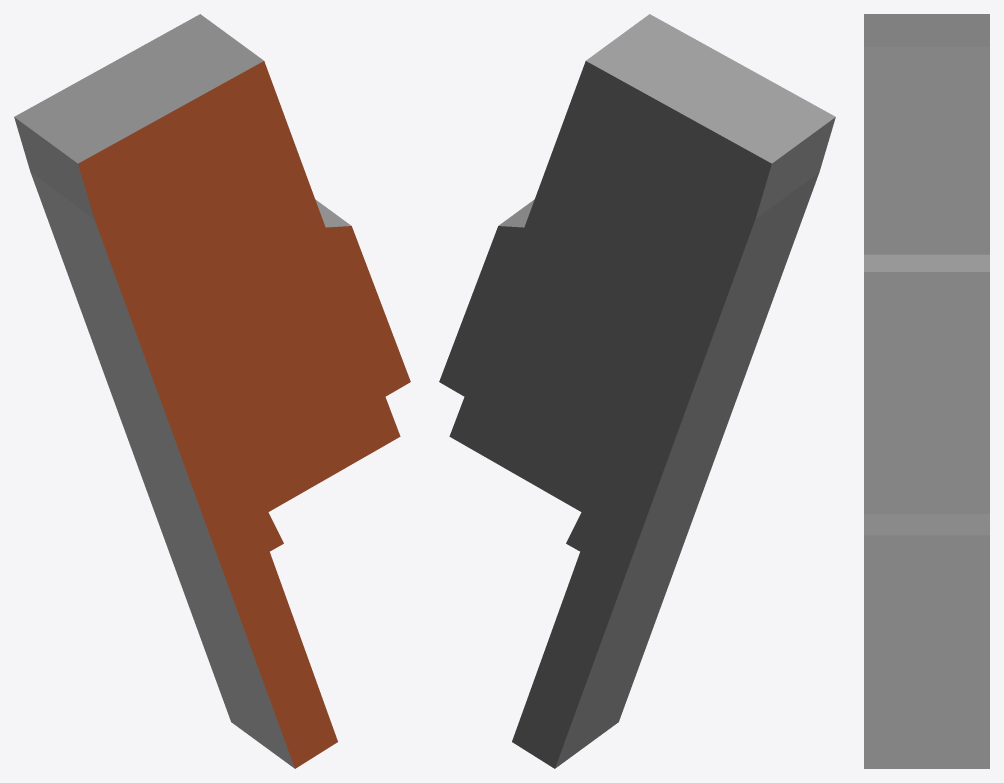
File: construction_3996_assumed_A_Casa_h6m.obj
3 renders of one model, left to right at view 1: azimuth 30°, elevation 25°; view 2: azimuth 150°, elevation 25°; view 3: azimuth 270°, elevation 25°, orthographic.
Parts seen in each view (by area): view 1: construction_3996_assumed_A_Casa; view 2: construction_3996_assumed_A_Casa; view 3: construction_3996_assumed_A_Casa.
Part boxes in pixels (box(x1,y1,x2,y2)): construction_3996_assumed_A_Casa: box(14, 14, 410, 768); construction_3996_assumed_A_Casa: box(439, 14, 835, 768); construction_3996_assumed_A_Casa: box(864, 14, 989, 768).
Size of the model in its own units: 18.03 by 37.03 by 6.
